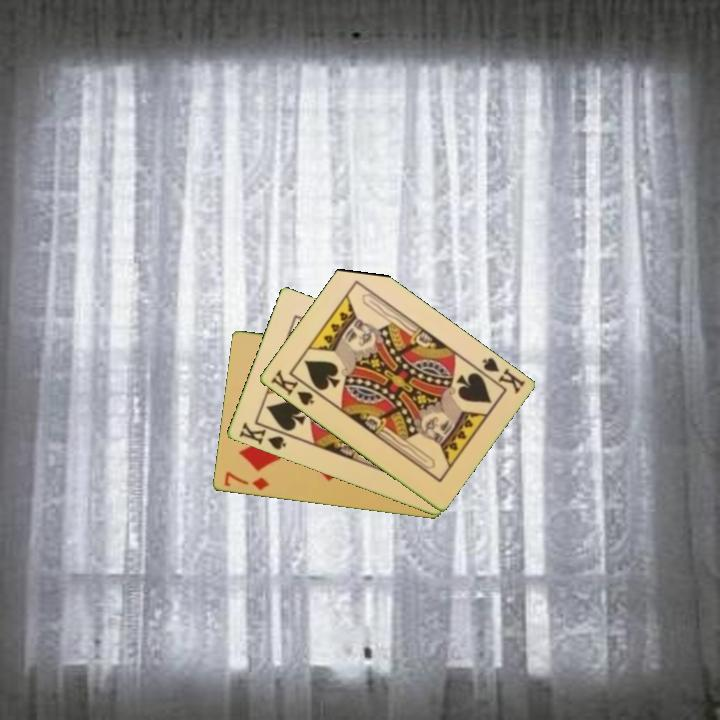7d: (220, 468, 272, 493)
Ks: (472, 354, 528, 397), (266, 366, 317, 409), (235, 418, 292, 453)
